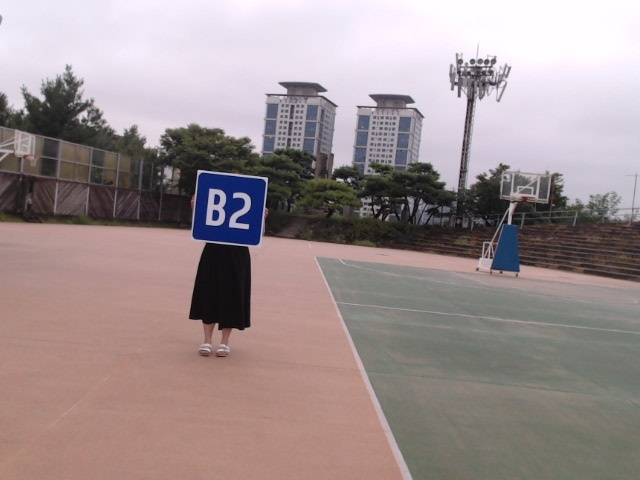delivery_b2: (191, 172, 267, 245)
